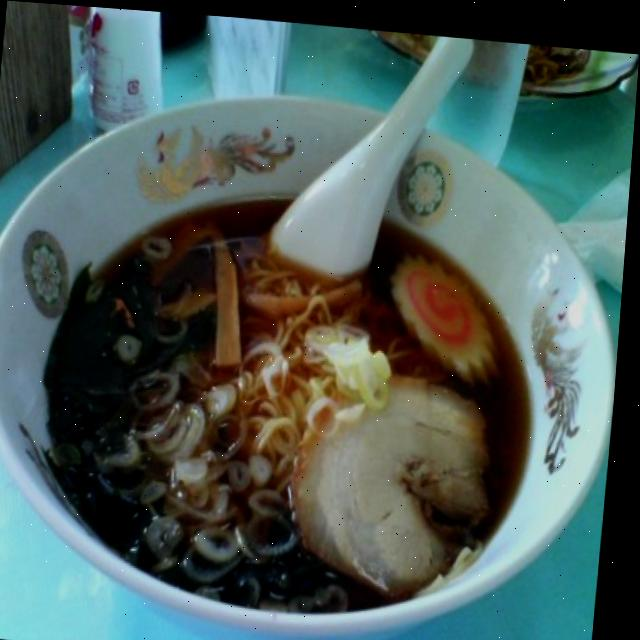面条主食: (0, 63, 636, 640)
